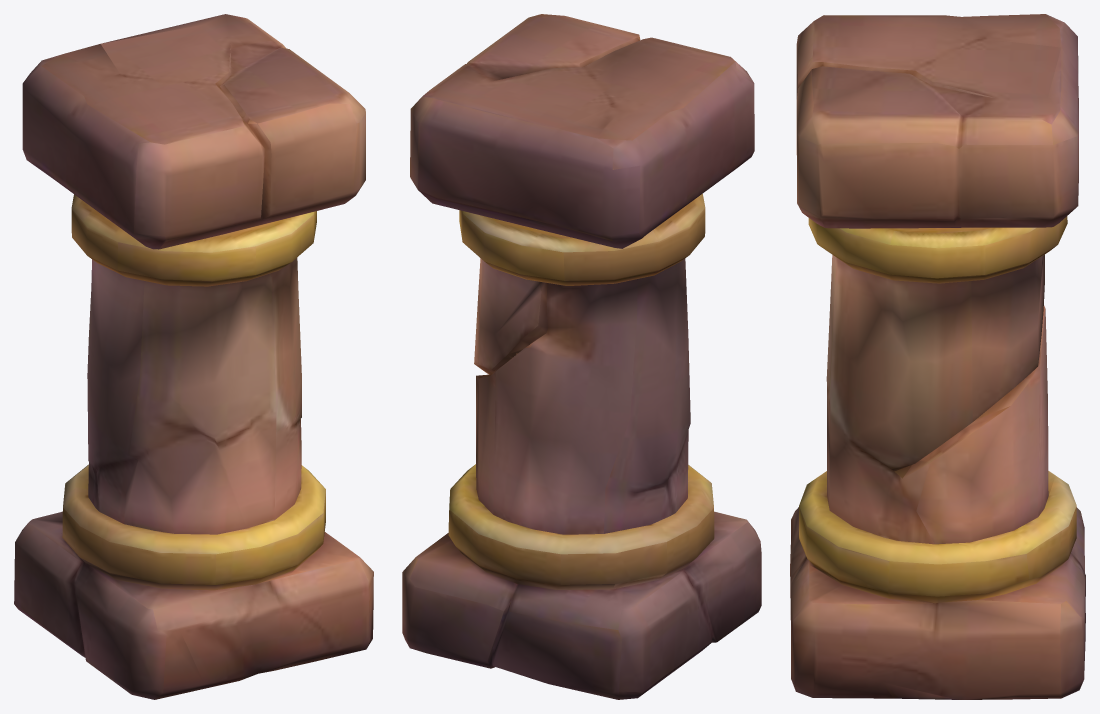
File: sz-pillar-broken-b.glb
3 renders of one model, left to right at view 1: azimuth 30°, elevation 25°; view 2: azimuth 150°, elevation 25°; view 3: azimuth 270°, elevation 25°, orthographic. The views are drawn at different scales.
Visible parts, largest first — view 1: geometry_0; view 2: geometry_0; view 3: geometry_0.
Part boxes in pixels (bbox=[...]): geometry_0: bbox=[14, 14, 373, 699]; geometry_0: bbox=[402, 14, 761, 699]; geometry_0: bbox=[790, 14, 1085, 699].
Size of the model in its own units: 0.4655 by 1 by 0.4678.
Materials: 1 (1 with a texture image).
